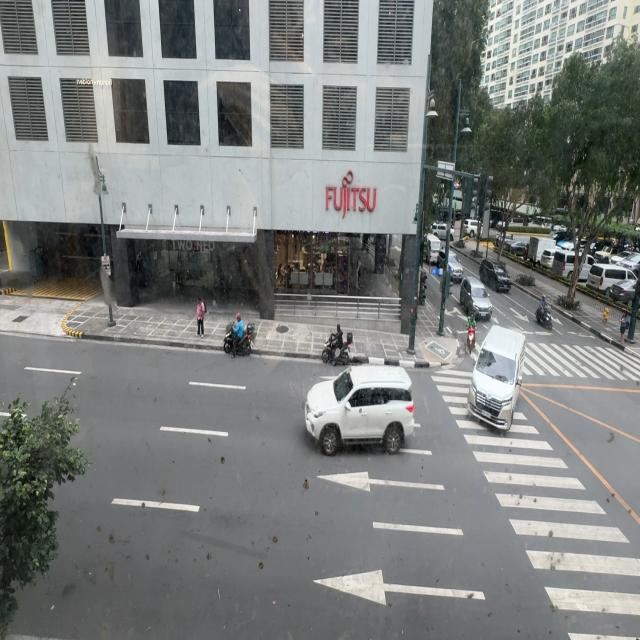pedestrain: (195, 299, 206, 336)
waiting: (620, 312, 629, 345)
